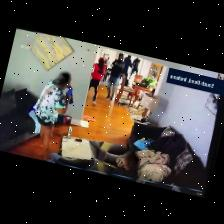person: (33, 72, 70, 160), (110, 151, 139, 181), (87, 58, 105, 104), (106, 53, 123, 100), (122, 55, 131, 77), (129, 58, 138, 78)
